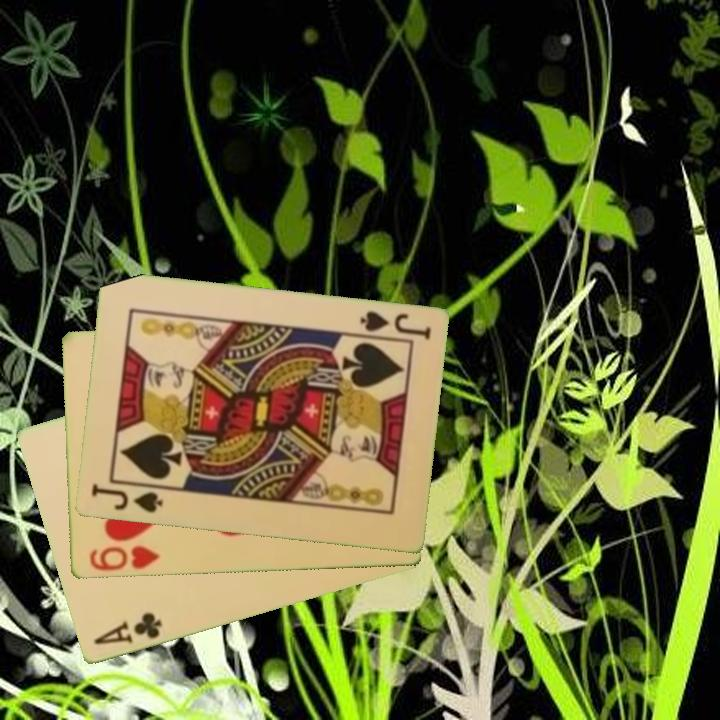6h: (85, 542, 162, 575)
Ac: (90, 609, 165, 648)
Js: (87, 480, 165, 516), (356, 308, 433, 343)
